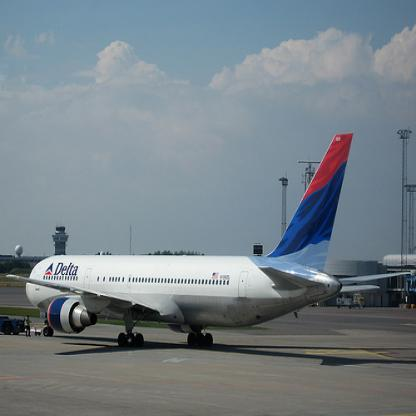aeroplane: (4, 130, 410, 346)
